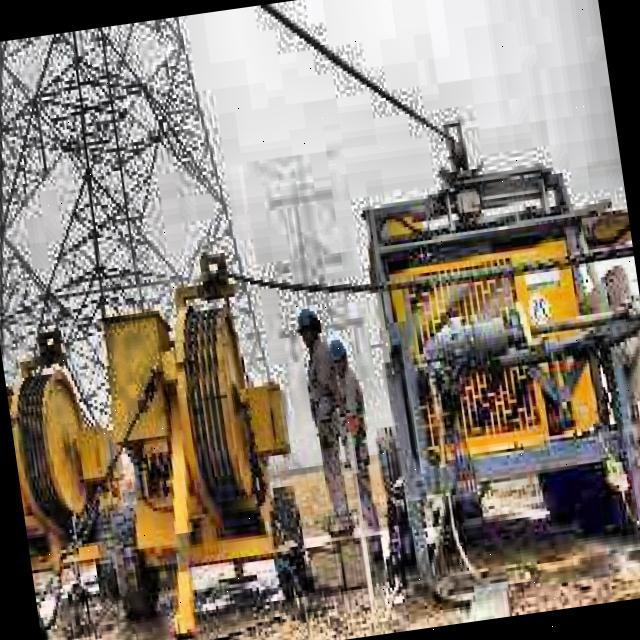helmet: (293, 304, 326, 349), (325, 336, 351, 374)
